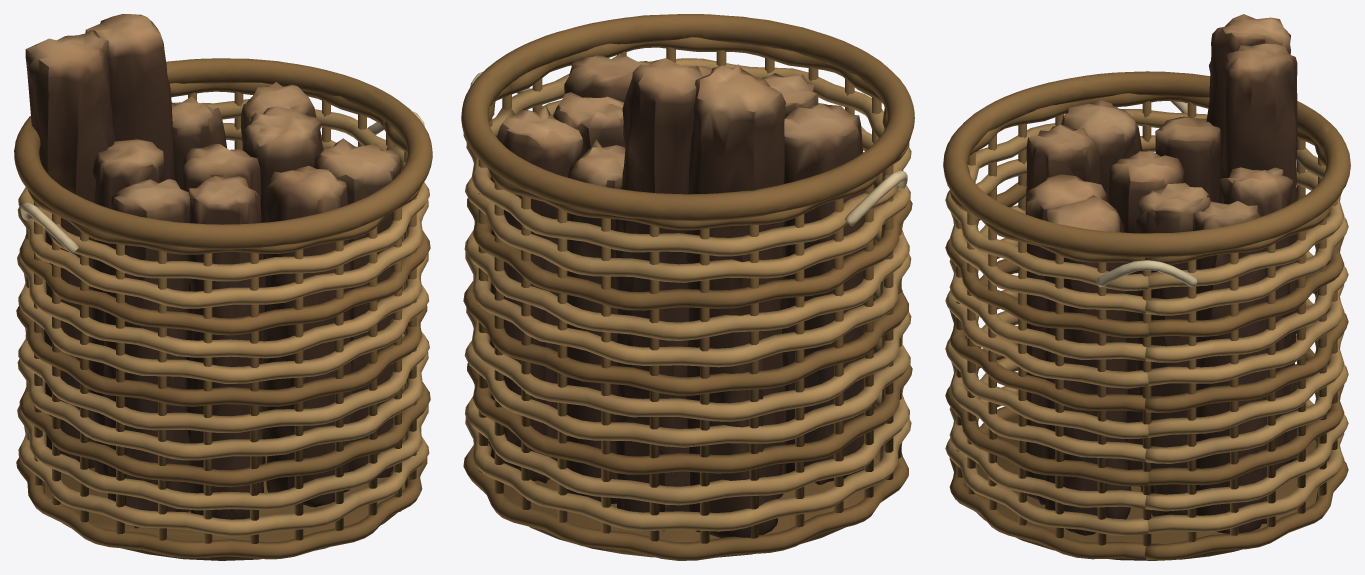
The model's file is ember_log_basket.glb.
3 views of the same model, side by side, from view 1: azimuth 30°, elevation 25°; view 2: azimuth 150°, elevation 25°; view 3: azimuth 270°, elevation 25° (orthographic). The views are drawn at different scales.
Visible parts, largest first — view 1: ember_log_basket; view 2: ember_log_basket; view 3: ember_log_basket.
Boxes of the visible parts, <box> form: ember_log_basket: <box>14,14,432,560</box>; ember_log_basket: <box>461,14,914,560</box>; ember_log_basket: <box>943,14,1350,560</box>.
Size of the model in its own units: 32.54 by 33.84 by 30.21.
